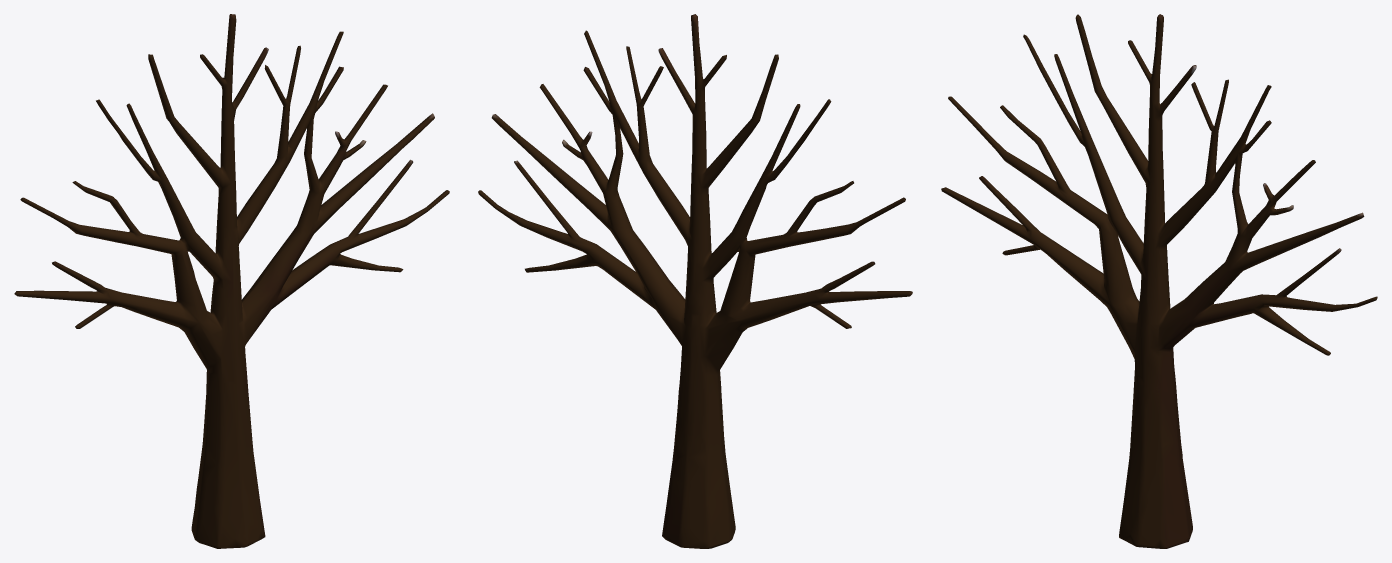
The model's file is gen3d-bare-winter-tree-lod0.glb.
The picture shows the model from 3 angles, left to right: view 1: azimuth 30°, elevation 25°; view 2: azimuth 150°, elevation 25°; view 3: azimuth 330°, elevation 25°; orthographic projection.
Visible parts, largest first — view 1: part_0; view 2: part_0; view 3: part_0.
Part boxes in pixels (<box>): part_0: <box>14,14,449,548</box>; part_0: <box>478,14,912,548</box>; part_0: <box>941,14,1377,548</box>.
Bounding box in the file's own units: 0.875 × 0.9994 × 0.13.
